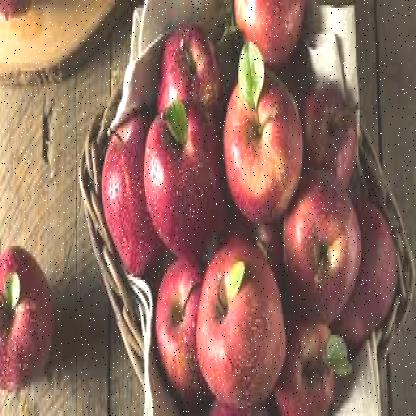apple: (208, 233, 288, 405), (222, 78, 304, 233), (150, 108, 228, 256), (288, 173, 362, 319), (335, 194, 405, 332), (1, 240, 60, 400), (153, 256, 219, 398), (103, 121, 165, 270), (154, 24, 230, 144), (274, 306, 346, 414), (230, 5, 306, 68)
